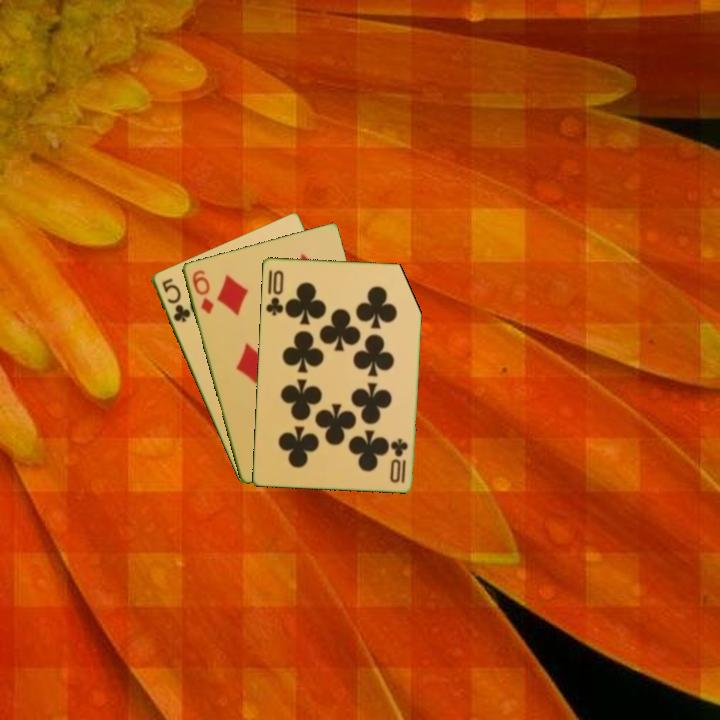10c: (262, 266, 286, 318), (387, 435, 410, 486)
5c: (158, 274, 193, 325)
6d: (188, 266, 216, 317)
